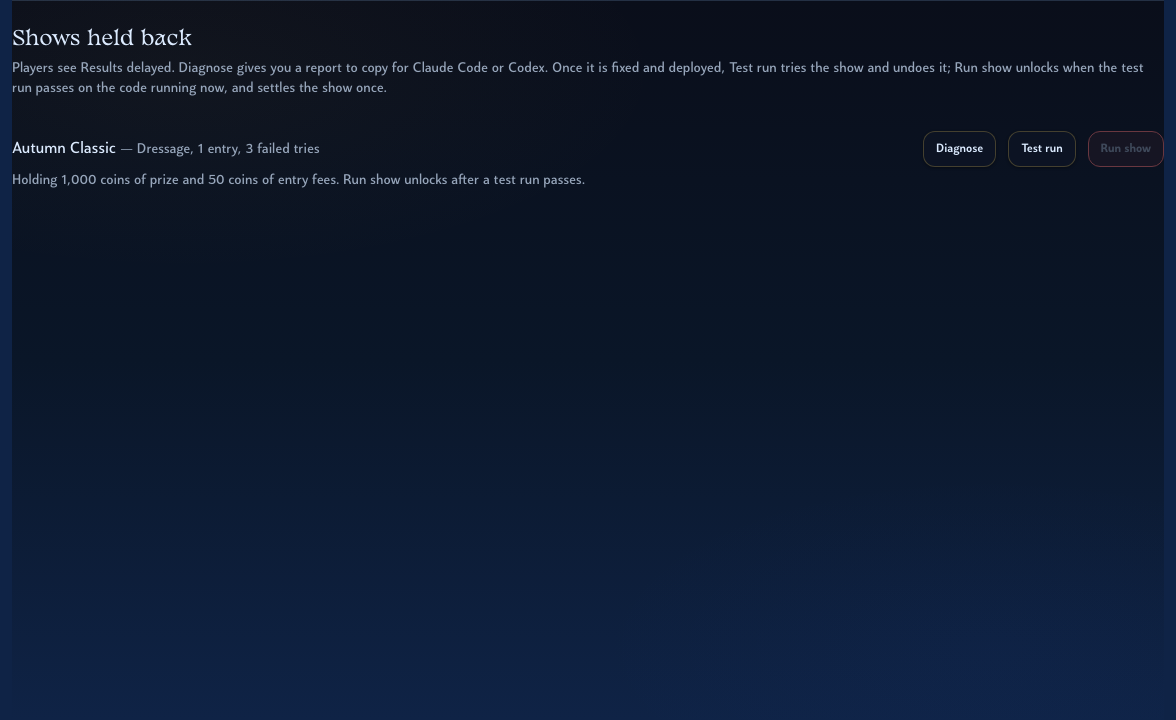
Scenario: StaffQuarantinedShows › a failed test run says so in words, never the raw server error, and Run show stays locked
Step 1. Click the button with aria-label "Test run Autumn Classic" → {"x": 1042, "y": 149}, box [1008, 131, 1076, 167]
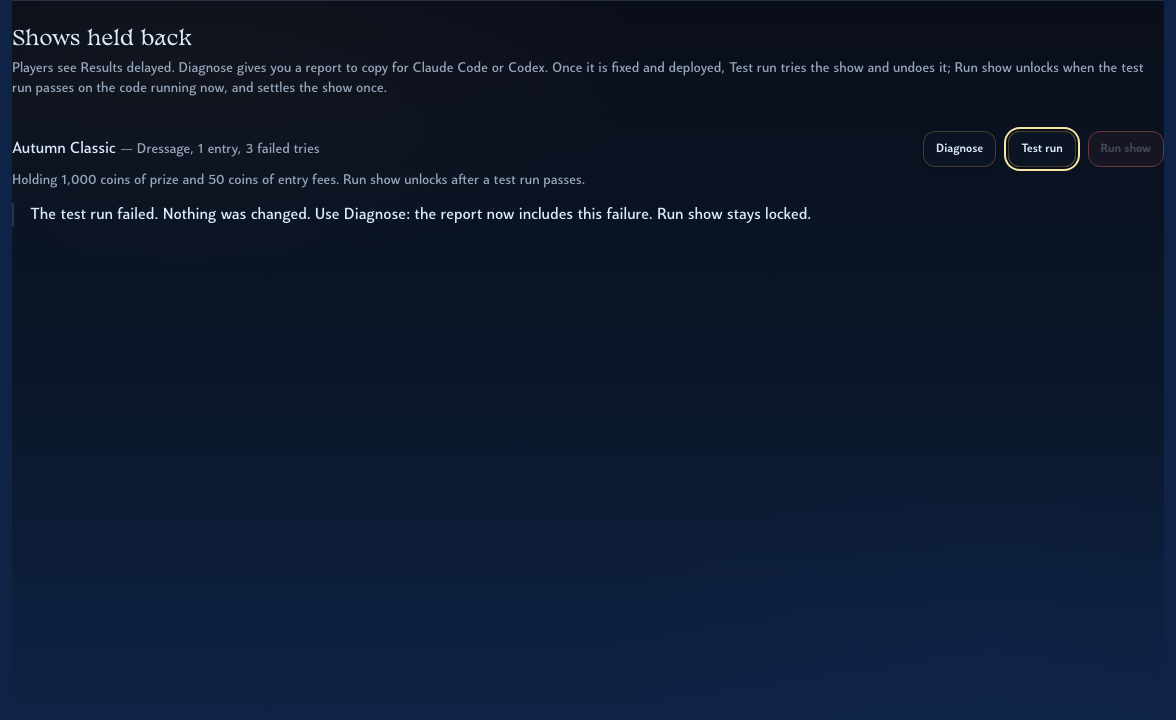
Expected: the button with aria-label "Run Autumn Classic" is disabled, [1088, 131, 1164, 167]
Result: the message shows "The test run failed. Nothing was changed" at [30, 207, 811, 223]
